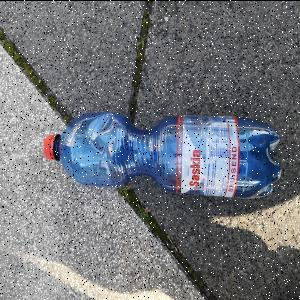Plastic-bottle: (44, 111, 286, 202)
